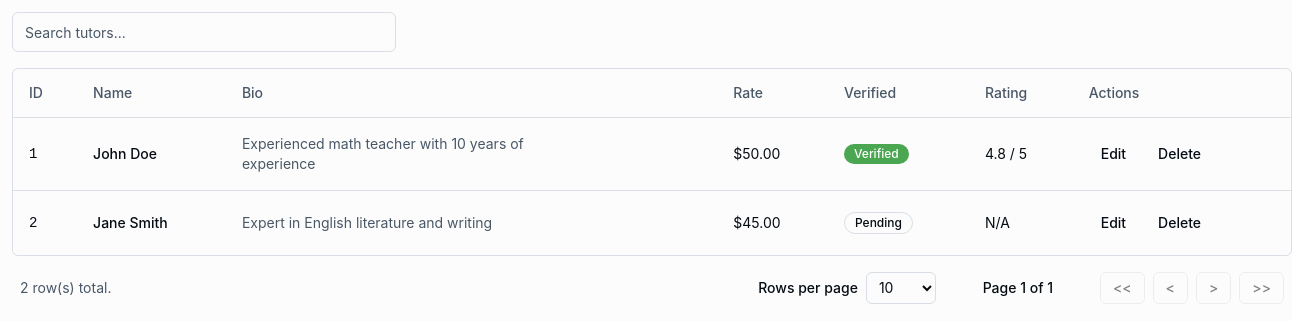
Test: TutorsTable › sorting functionality › toggles sort direction when clicking header
# First click - ascending
Click the text "Name": (113, 92) top-left (93, 84), bottom-right (132, 101)
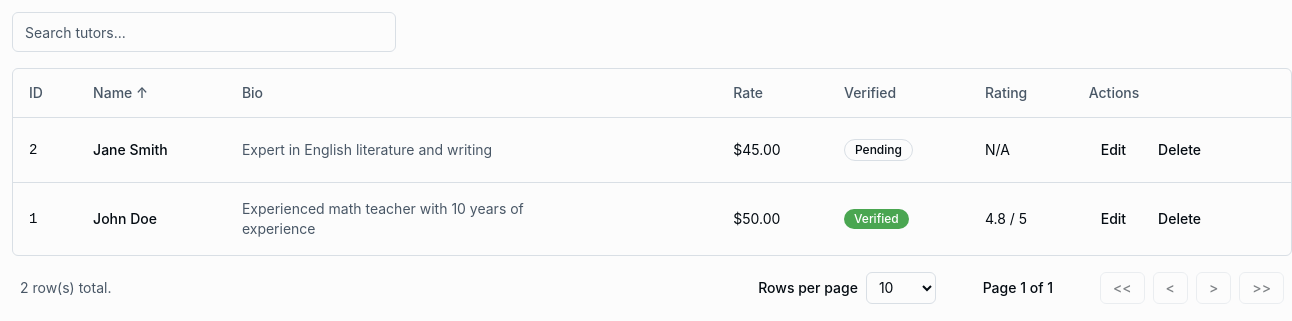
expect the column heading "Name" shows "↑": met, box top-left (132, 84), bottom-right (148, 101)
# Second click - descending
Click the text "Name": (121, 92) top-left (93, 84), bottom-right (148, 101)
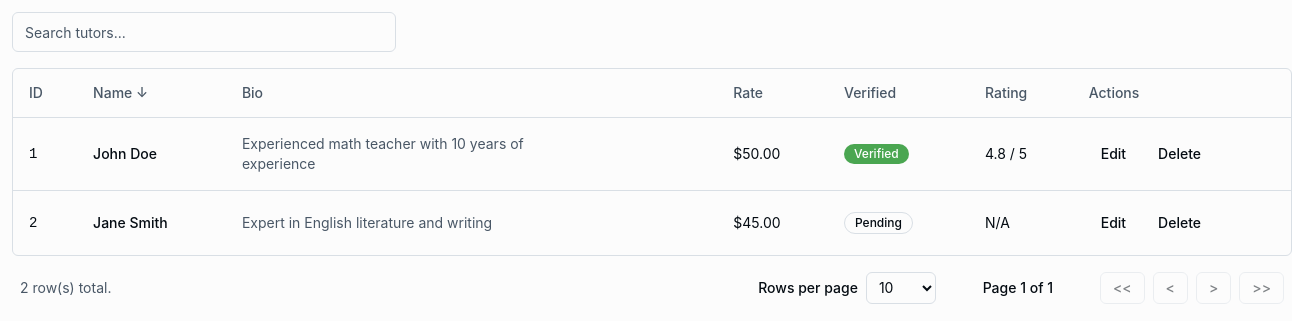
expect the column heading "Name" shows "↓": met, box top-left (132, 84), bottom-right (148, 101)
